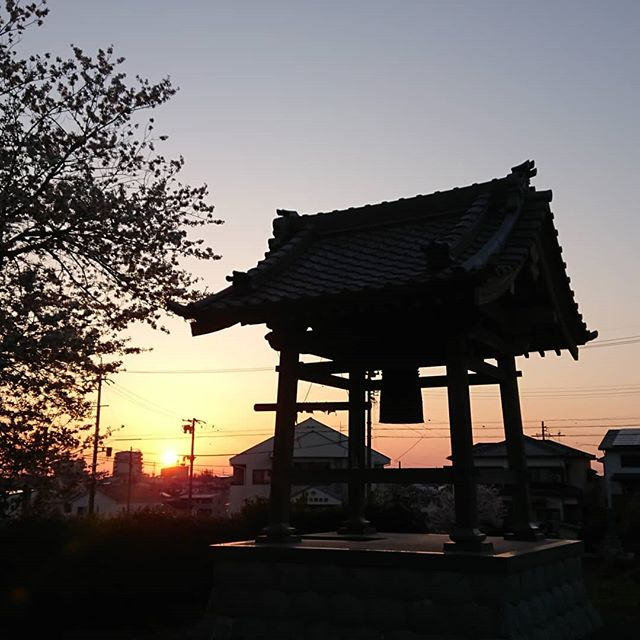building: (215, 159, 584, 637)
sky: (164, 1, 640, 202)
sun: (148, 436, 200, 474)
tree: (1, 14, 180, 488)
